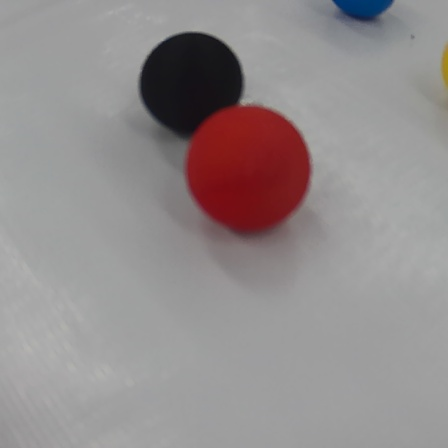black: (138, 34, 249, 138)
red: (181, 106, 313, 235)
